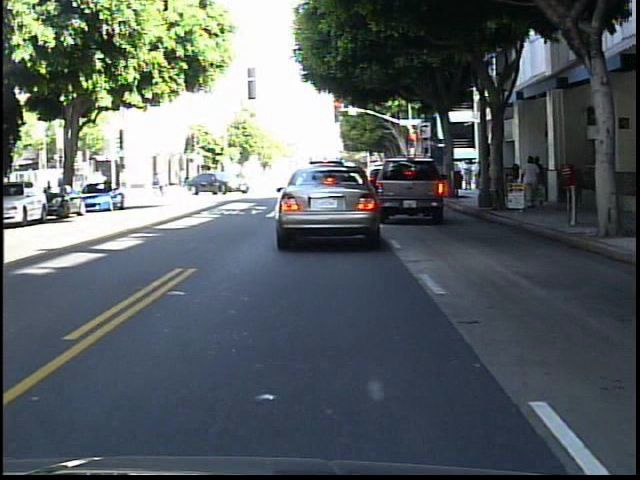person: (522, 154, 542, 209), (535, 154, 549, 208), (56, 169, 75, 207)
